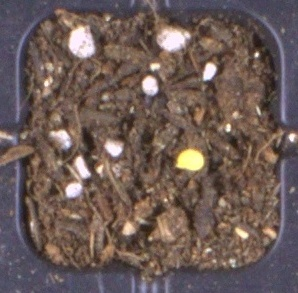chilli seed: (174, 148, 205, 172)
